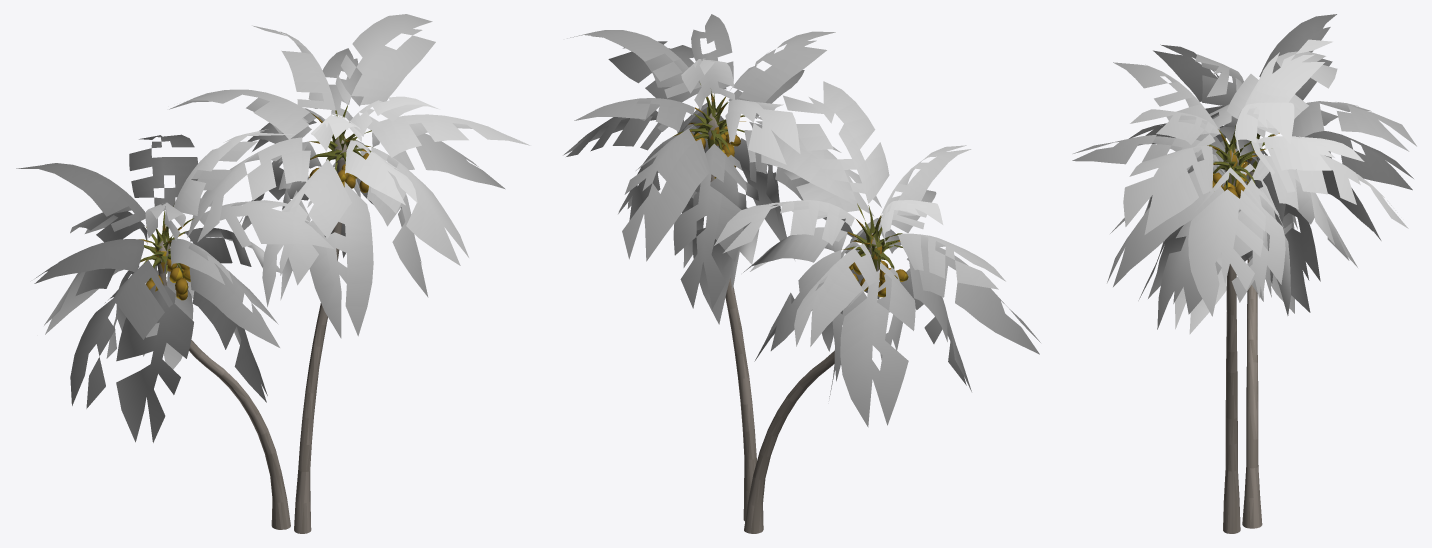
The model's file is tree-palm.glb.
The picture shows the model from 3 angles, left to right: view 1: azimuth 30°, elevation 25°; view 2: azimuth 150°, elevation 25°; view 3: azimuth 270°, elevation 25°; orthographic projection. The views are drawn at different scales.
Visible parts, largest first — view 1: leaves, bark; view 2: leaves, bark; view 3: leaves, bark.
Part boxes in pixels (x1=…): leaves: x1=16, y1=14, x2=530, y2=442; bark: x1=139, y1=105, x2=372, y2=533; leaves: x1=563, y1=14, x2=1040, y2=427; bark: x1=672, y1=83, x2=908, y2=533; leaves: x1=1072, y1=14, x2=1416, y2=334; bark: x1=1207, y1=125, x2=1279, y2=533.
Size of the model in its own units: 1 by 1 by 0.6402.
